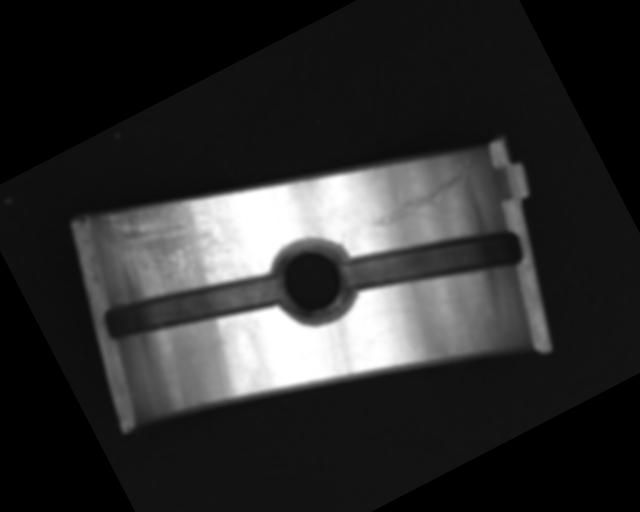gap: (337, 184, 528, 337), (97, 233, 287, 376)
hole: (260, 227, 367, 335)
nick: (362, 152, 491, 251)
scratch: (88, 167, 237, 316)
